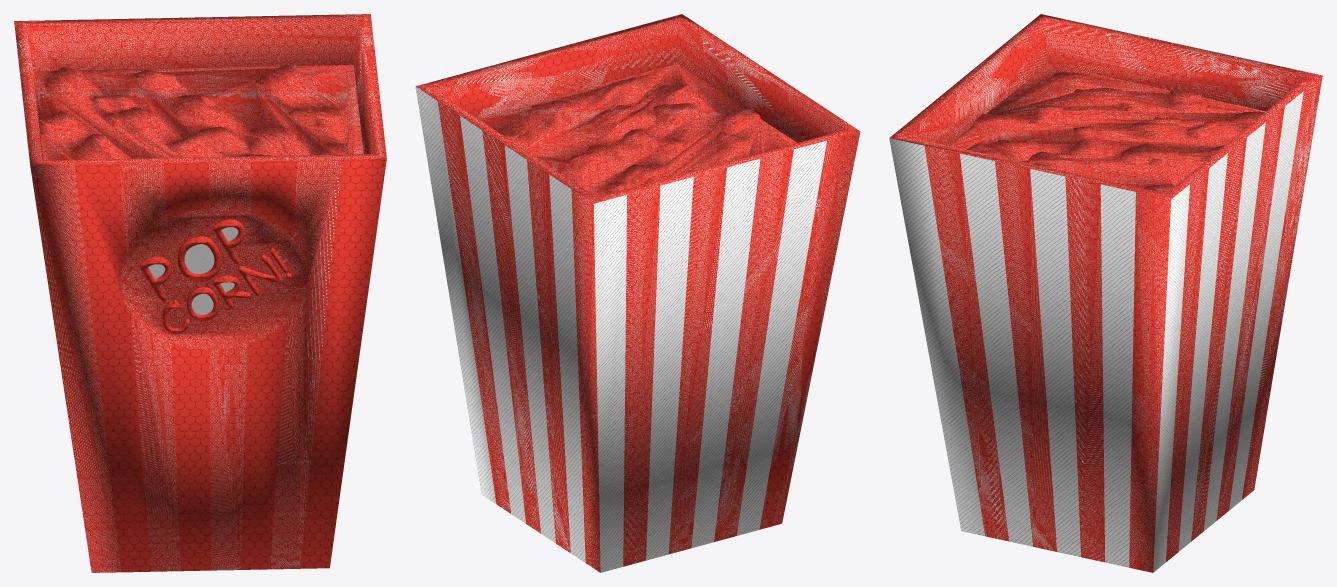
The model's file is popcorn.dae.
The picture shows the model from 3 angles, left to right: view 1: azimuth 30°, elevation 25°; view 2: azimuth 150°, elevation 25°; view 3: azimuth 270°, elevation 25°; orthographic projection. The views are drawn at different scales.
Visible parts, largest first — view 1: POPCORN_BY_GABANCIANO_ (×32); view 2: POPCORN_BY_GABANCIANO_ (×27); view 3: POPCORN_BY_GABANCIANO_ (×26).
Boxes of the visible parts, <box> form: POPCORN_BY_GABANCIANO_ (×32): <box>14,14,386,572</box>; POPCORN_BY_GABANCIANO_ (×27): <box>415,14,860,572</box>; POPCORN_BY_GABANCIANO_ (×26): <box>889,14,1322,572</box>.
Size of the model in its own units: 217 by 214 by 218.
